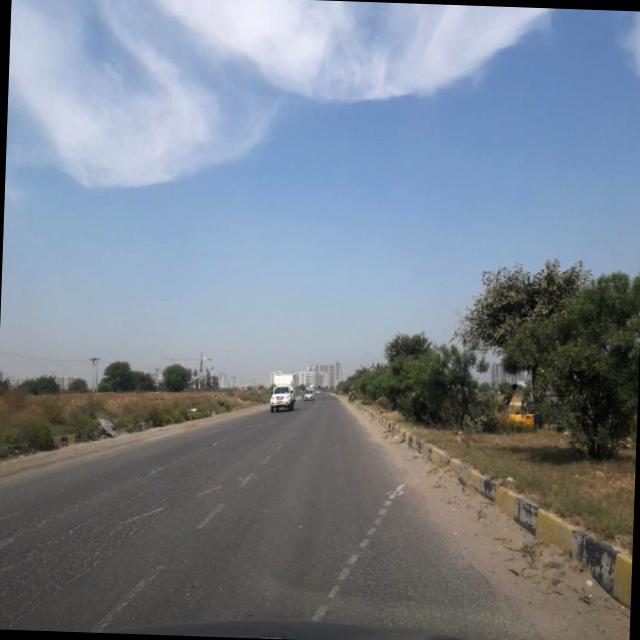crack: (0, 475, 190, 620)
pothole: (0, 521, 29, 554)
